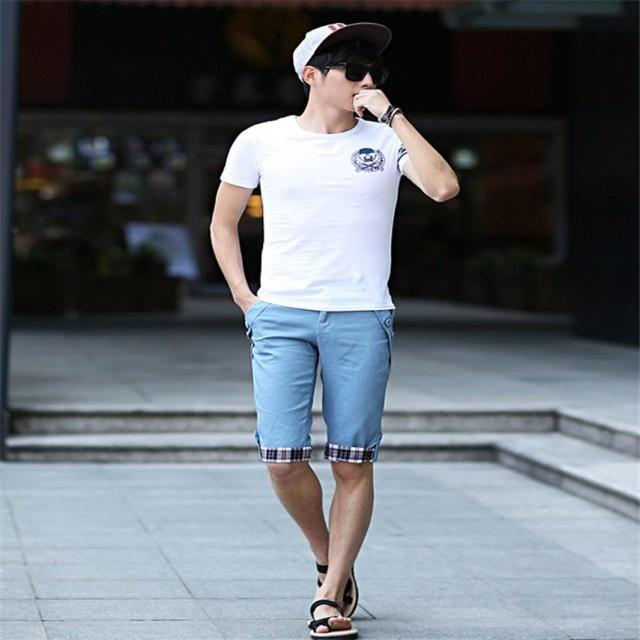short-sleeve-top: (222, 94, 475, 264)
shorts: (230, 285, 440, 511)
